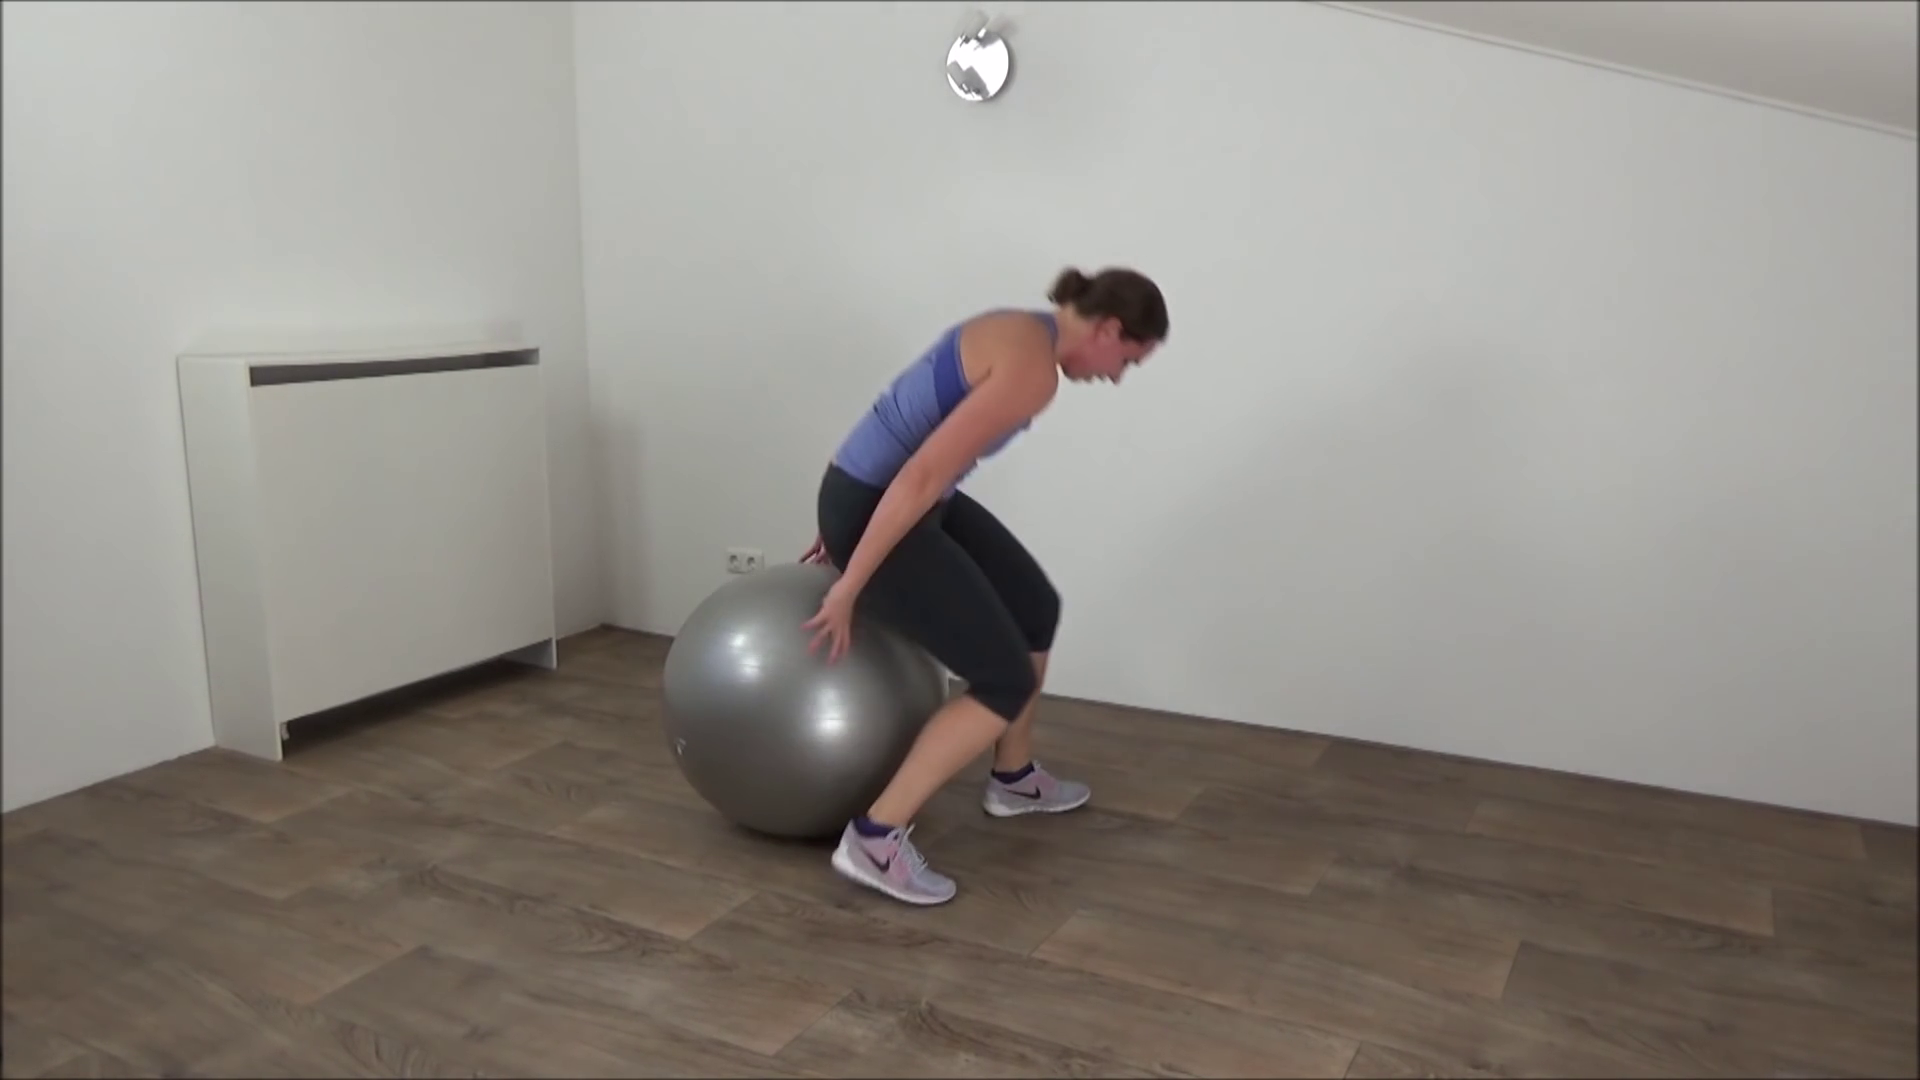yogaball: (644, 560, 963, 860)
